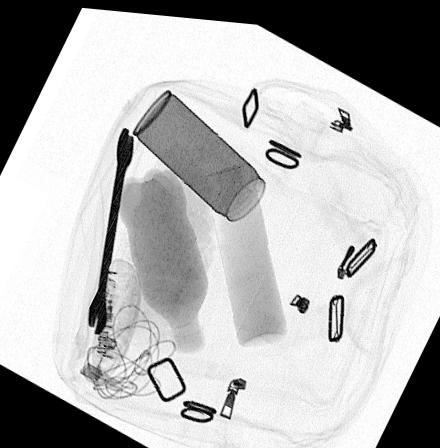Wrench: (88, 124, 135, 332)
